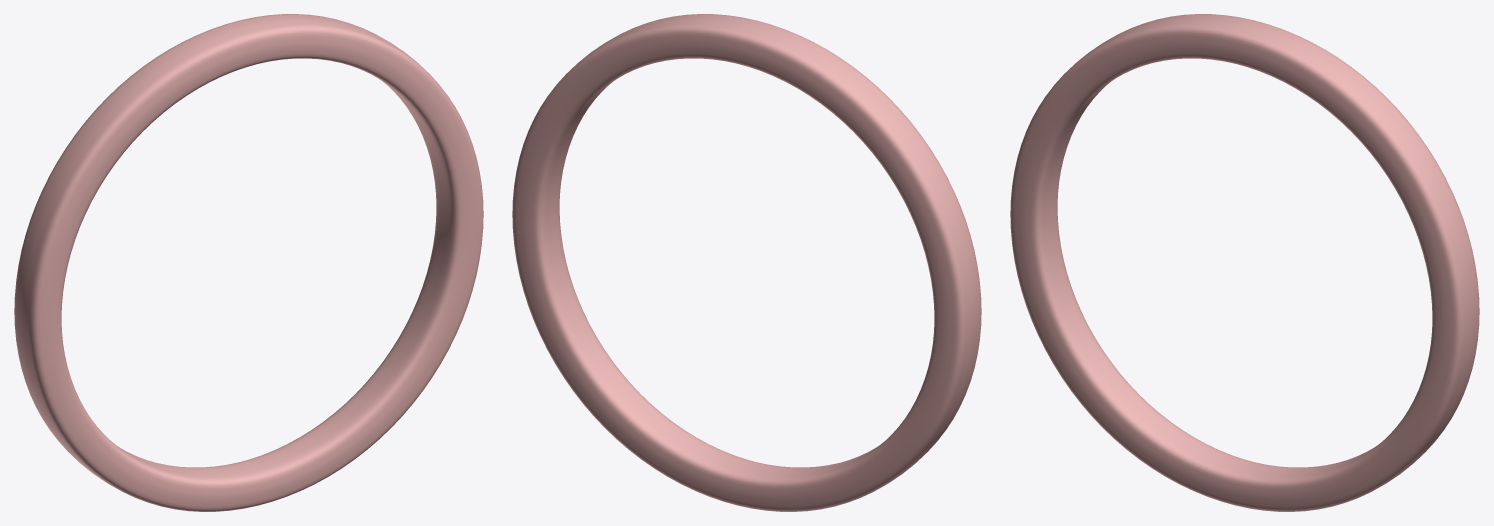
The model's file is PLAIN.glb.
3 renders of one model, left to right at view 1: azimuth 30°, elevation 25°; view 2: azimuth 150°, elevation 25°; view 3: azimuth 330°, elevation 25°, orthographic.
Parts seen in each view (by area): view 1: plain; view 2: plain; view 3: plain.
Boxes of the visible parts, box(x1,y1,x2,y2) form: plain: box(14, 14, 483, 511); plain: box(512, 14, 981, 511); plain: box(1010, 14, 1479, 511).
Size of the model in its own units: 15.6 by 15.6 by 1.38.
